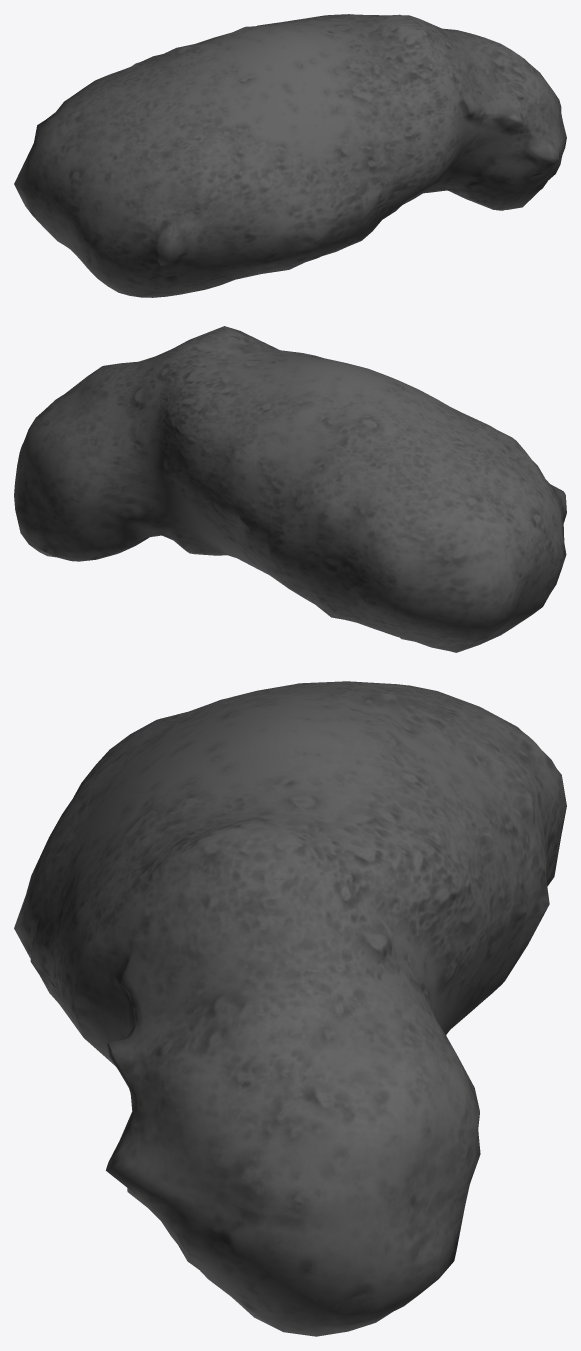
The model's file is itokawa.glb.
3 views of the same model, one above another, from view 1: azimuth 30°, elevation 25°; view 2: azimuth 150°, elevation 25°; view 3: azimuth 270°, elevation 25° (orthographic). The views are drawn at different scales.
Visible parts, largest first — view 1: itokawa_LP; view 2: itokawa_LP; view 3: itokawa_LP.
Boxes of the visible parts, x1,y1,x2,y2 form: itokawa_LP: (14, 14, 566, 297); itokawa_LP: (14, 326, 566, 652); itokawa_LP: (14, 681, 566, 1336).
Size of the model in its own units: 535 by 232 by 290.
1 material, 1 textured.
